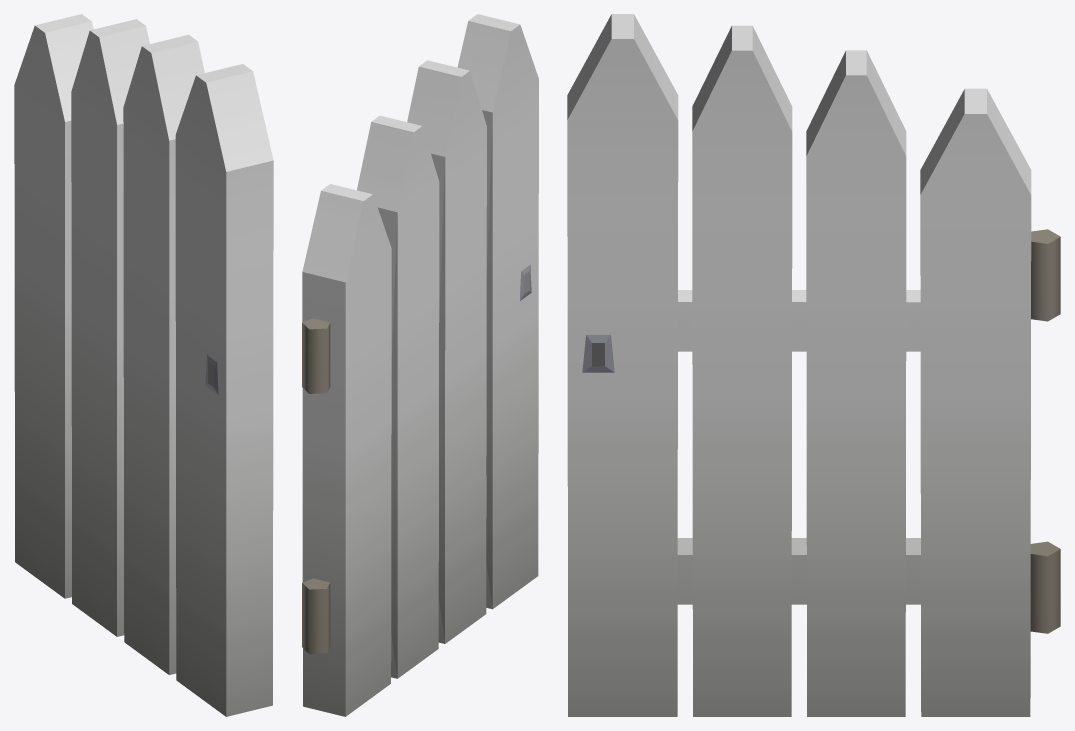
Rendered from Fence_1_A_3.fbx.
The picture shows the model from 3 angles, left to right: view 1: azimuth 30°, elevation 25°; view 2: azimuth 150°, elevation 25°; view 3: azimuth 270°, elevation 25°; orthographic projection. The views are drawn at different scales.
Visible parts, largest first — view 1: Fence_1_A_3; view 2: Fence_1_A_3; view 3: Fence_1_A_3.
Boxes of the visible parts, x1=… form: Fence_1_A_3: x1=14, y1=14, x2=273, y2=716; Fence_1_A_3: x1=302, y1=14, x2=538, y2=716; Fence_1_A_3: x1=567, y1=14, x2=1060, y2=716.
Size of the model in its own units: 5.09 by 60.13 by 39.65.
